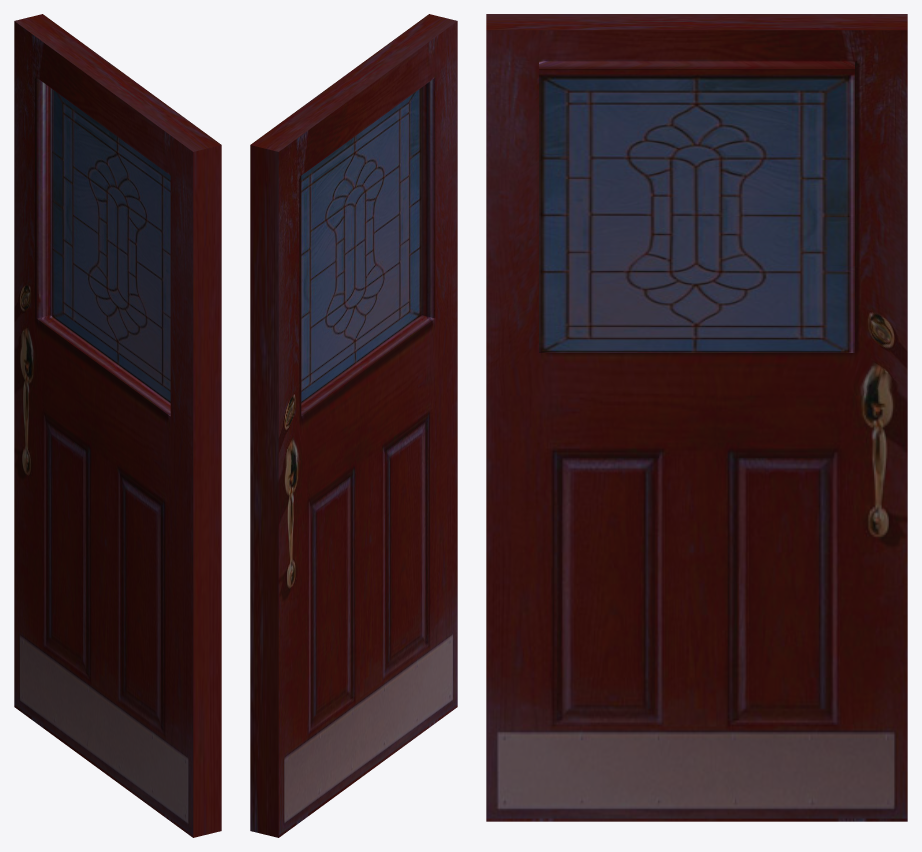
The model's file is Door.fbx.
3 views of the same model, side by side, from view 1: azimuth 30°, elevation 25°; view 2: azimuth 150°, elevation 25°; view 3: azimuth 270°, elevation 25° (orthographic). The views are drawn at different scales.
Visible parts, largest first — view 1: Door; view 2: Door; view 3: Door.
Part boxes in pixels (box(x1,y1,x2,y2)): Door: box(14, 14, 221, 837); Door: box(250, 14, 457, 837); Door: box(486, 14, 907, 821).
Size of the model in its own units: 0.1103 by 2.53 by 1.2.
